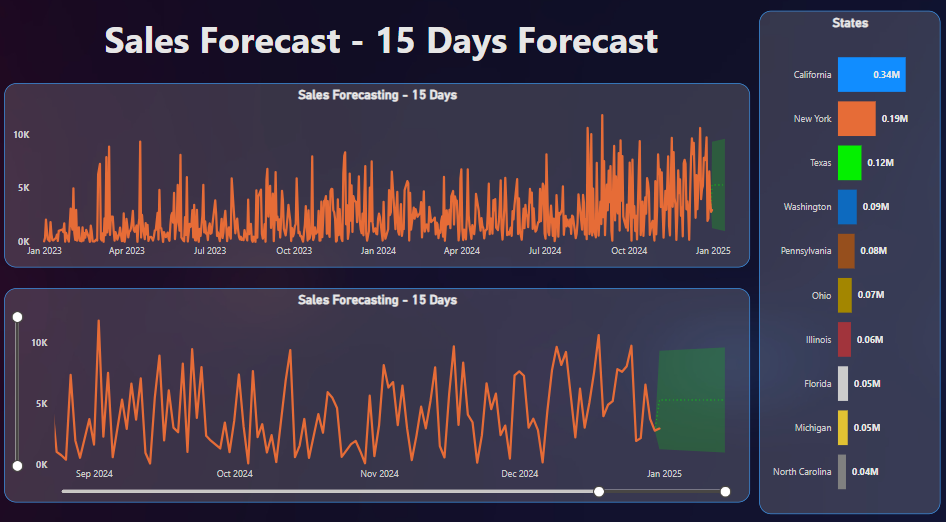

What the dashboard file says about the page in this screenshot:
{"tool":"powerbi","page":{"name":"Forecasting","canvas":[1280,720],"ordinal":1},"visuals":[{"type":"lineChart","title":"Sales Forecasting - 15 Days","fields":{"Y":["Sum(Sheet1.Sales)"],"Category":["Sheet1.Order Date"]},"box":[15.7,121.4,994.3,245.7],"z":0},{"type":"lineChart","title":"Sales Forecasting - 15 Days","fields":{"Y":["Sum(Sheet1.Sales)"],"Category":["Sheet1.Order Date"]},"box":[15.7,395.7,994.3,285.7],"z":1000},{"type":"barChart","title":"States","fields":{"Category":["Sheet1.State"],"Y":["Sum(Sheet1.Sales)"]},"box":[1021.4,24.3,241.4,671.4],"z":2000},{"type":"textbox","box":[142.9,24.3,837.1,82.9],"z":3000}]}

Visuals, with their boxes in screenshot pixels (x1, y1, x2, y2), scaled from the page's 1280x720 canvas onto the 946x522 screenshot:
"Sales Forecasting - 15 Days" lineChart: [12,88,746,266]
"Sales Forecasting - 15 Days" lineChart: [12,287,746,494]
"States" barChart: [755,18,933,504]
textbox: [106,18,724,78]
